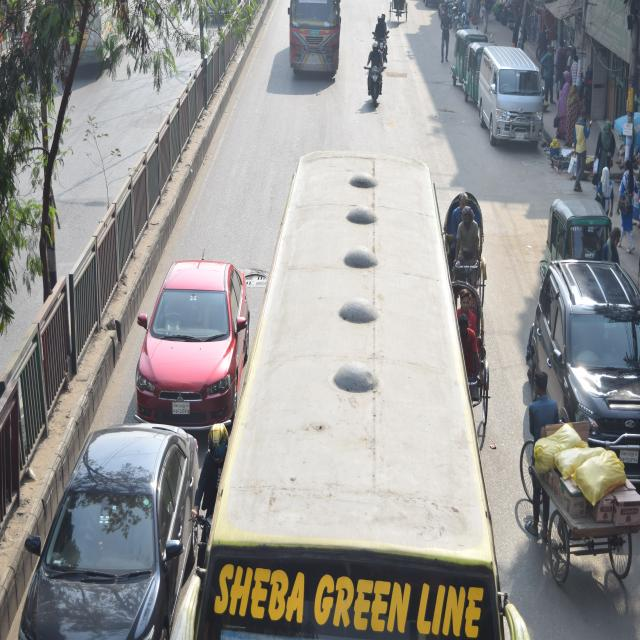bus: (202, 138, 498, 640), (284, 0, 344, 100)
car: (10, 411, 207, 638), (523, 246, 640, 475), (133, 247, 254, 428)
microbus: (478, 39, 549, 160)
motorbike: (363, 42, 382, 107), (374, 10, 389, 66)
